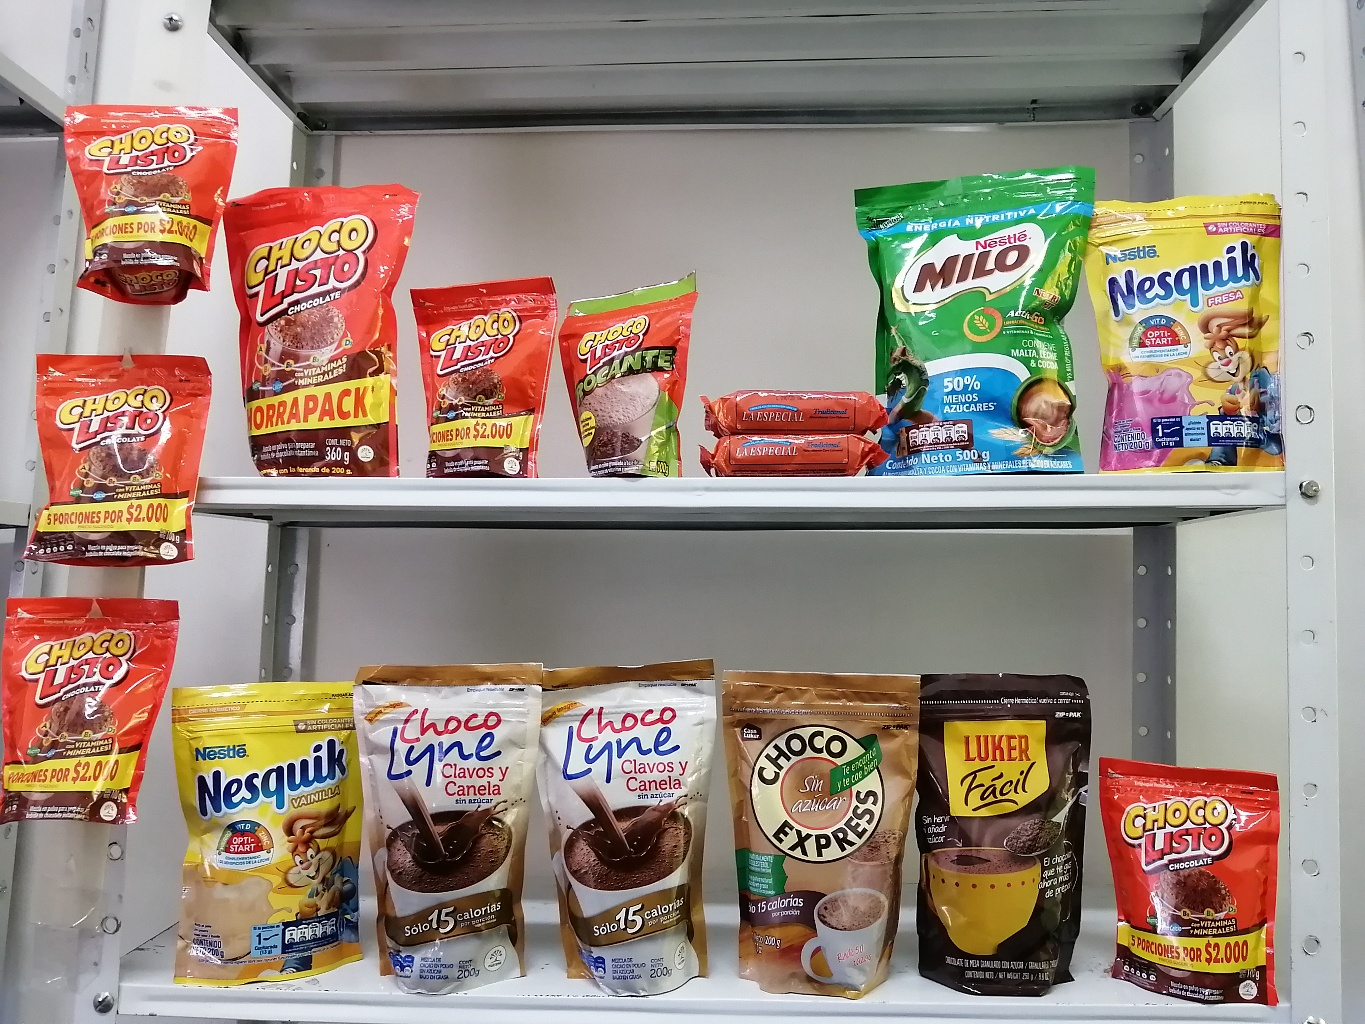COL0170102DYP10000: (564, 289, 696, 484)
COL0170103DYP36000: (217, 183, 404, 477)
COL0170205DYP50000: (851, 181, 1103, 475)
COL0170303DYP20000: (173, 681, 366, 989)
COL0170305DYP20000: (1089, 172, 1292, 474)
